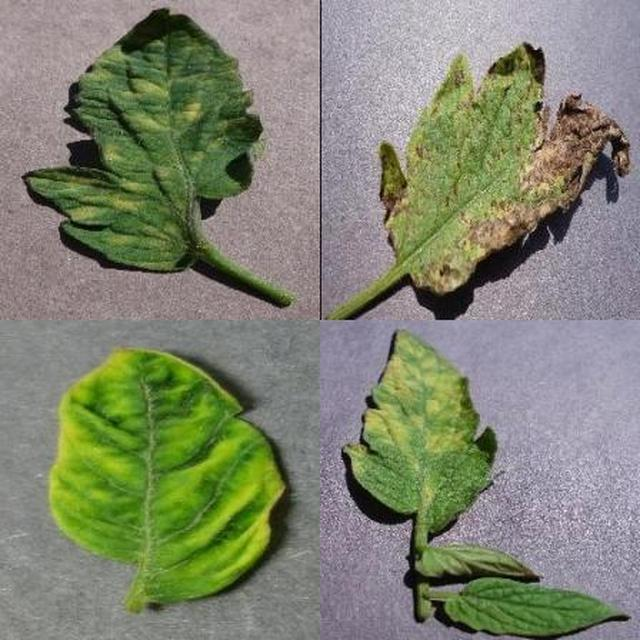Leaf Mold: (207, 88, 640, 640)
